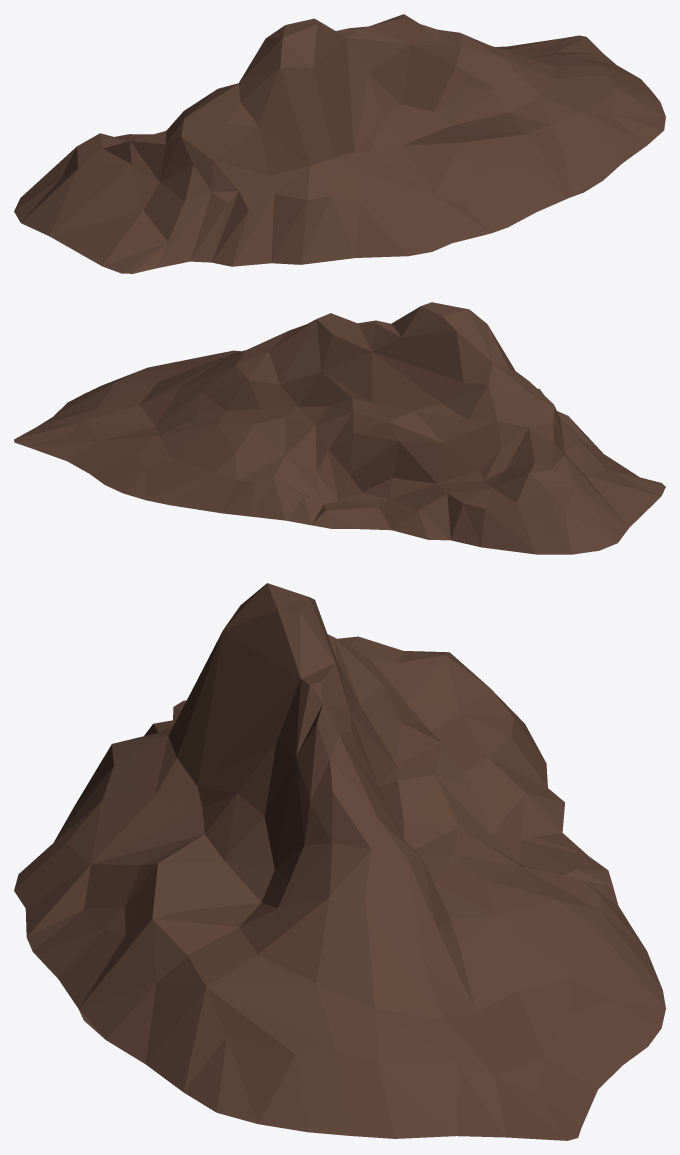
The model's file is Mountain_01.glb.
3 renders of one model, top to bottom at view 1: azimuth 30°, elevation 25°; view 2: azimuth 150°, elevation 25°; view 3: azimuth 270°, elevation 25°, orthographic. The views are drawn at different scales.
Visible parts, largest first — view 1: Mountain_01; view 2: Mountain_01; view 3: Mountain_01.
Boxes of the visible parts, x1=… form: Mountain_01: x1=14, y1=14, x2=665, y2=273; Mountain_01: x1=14, y1=302, x2=665, y2=554; Mountain_01: x1=14, y1=583, x2=665, y2=1140.
Size of what is drawn, in the model's own units: 17.05 by 4.51 by 10.26.
Materials: 1 (1 with a texture image).
